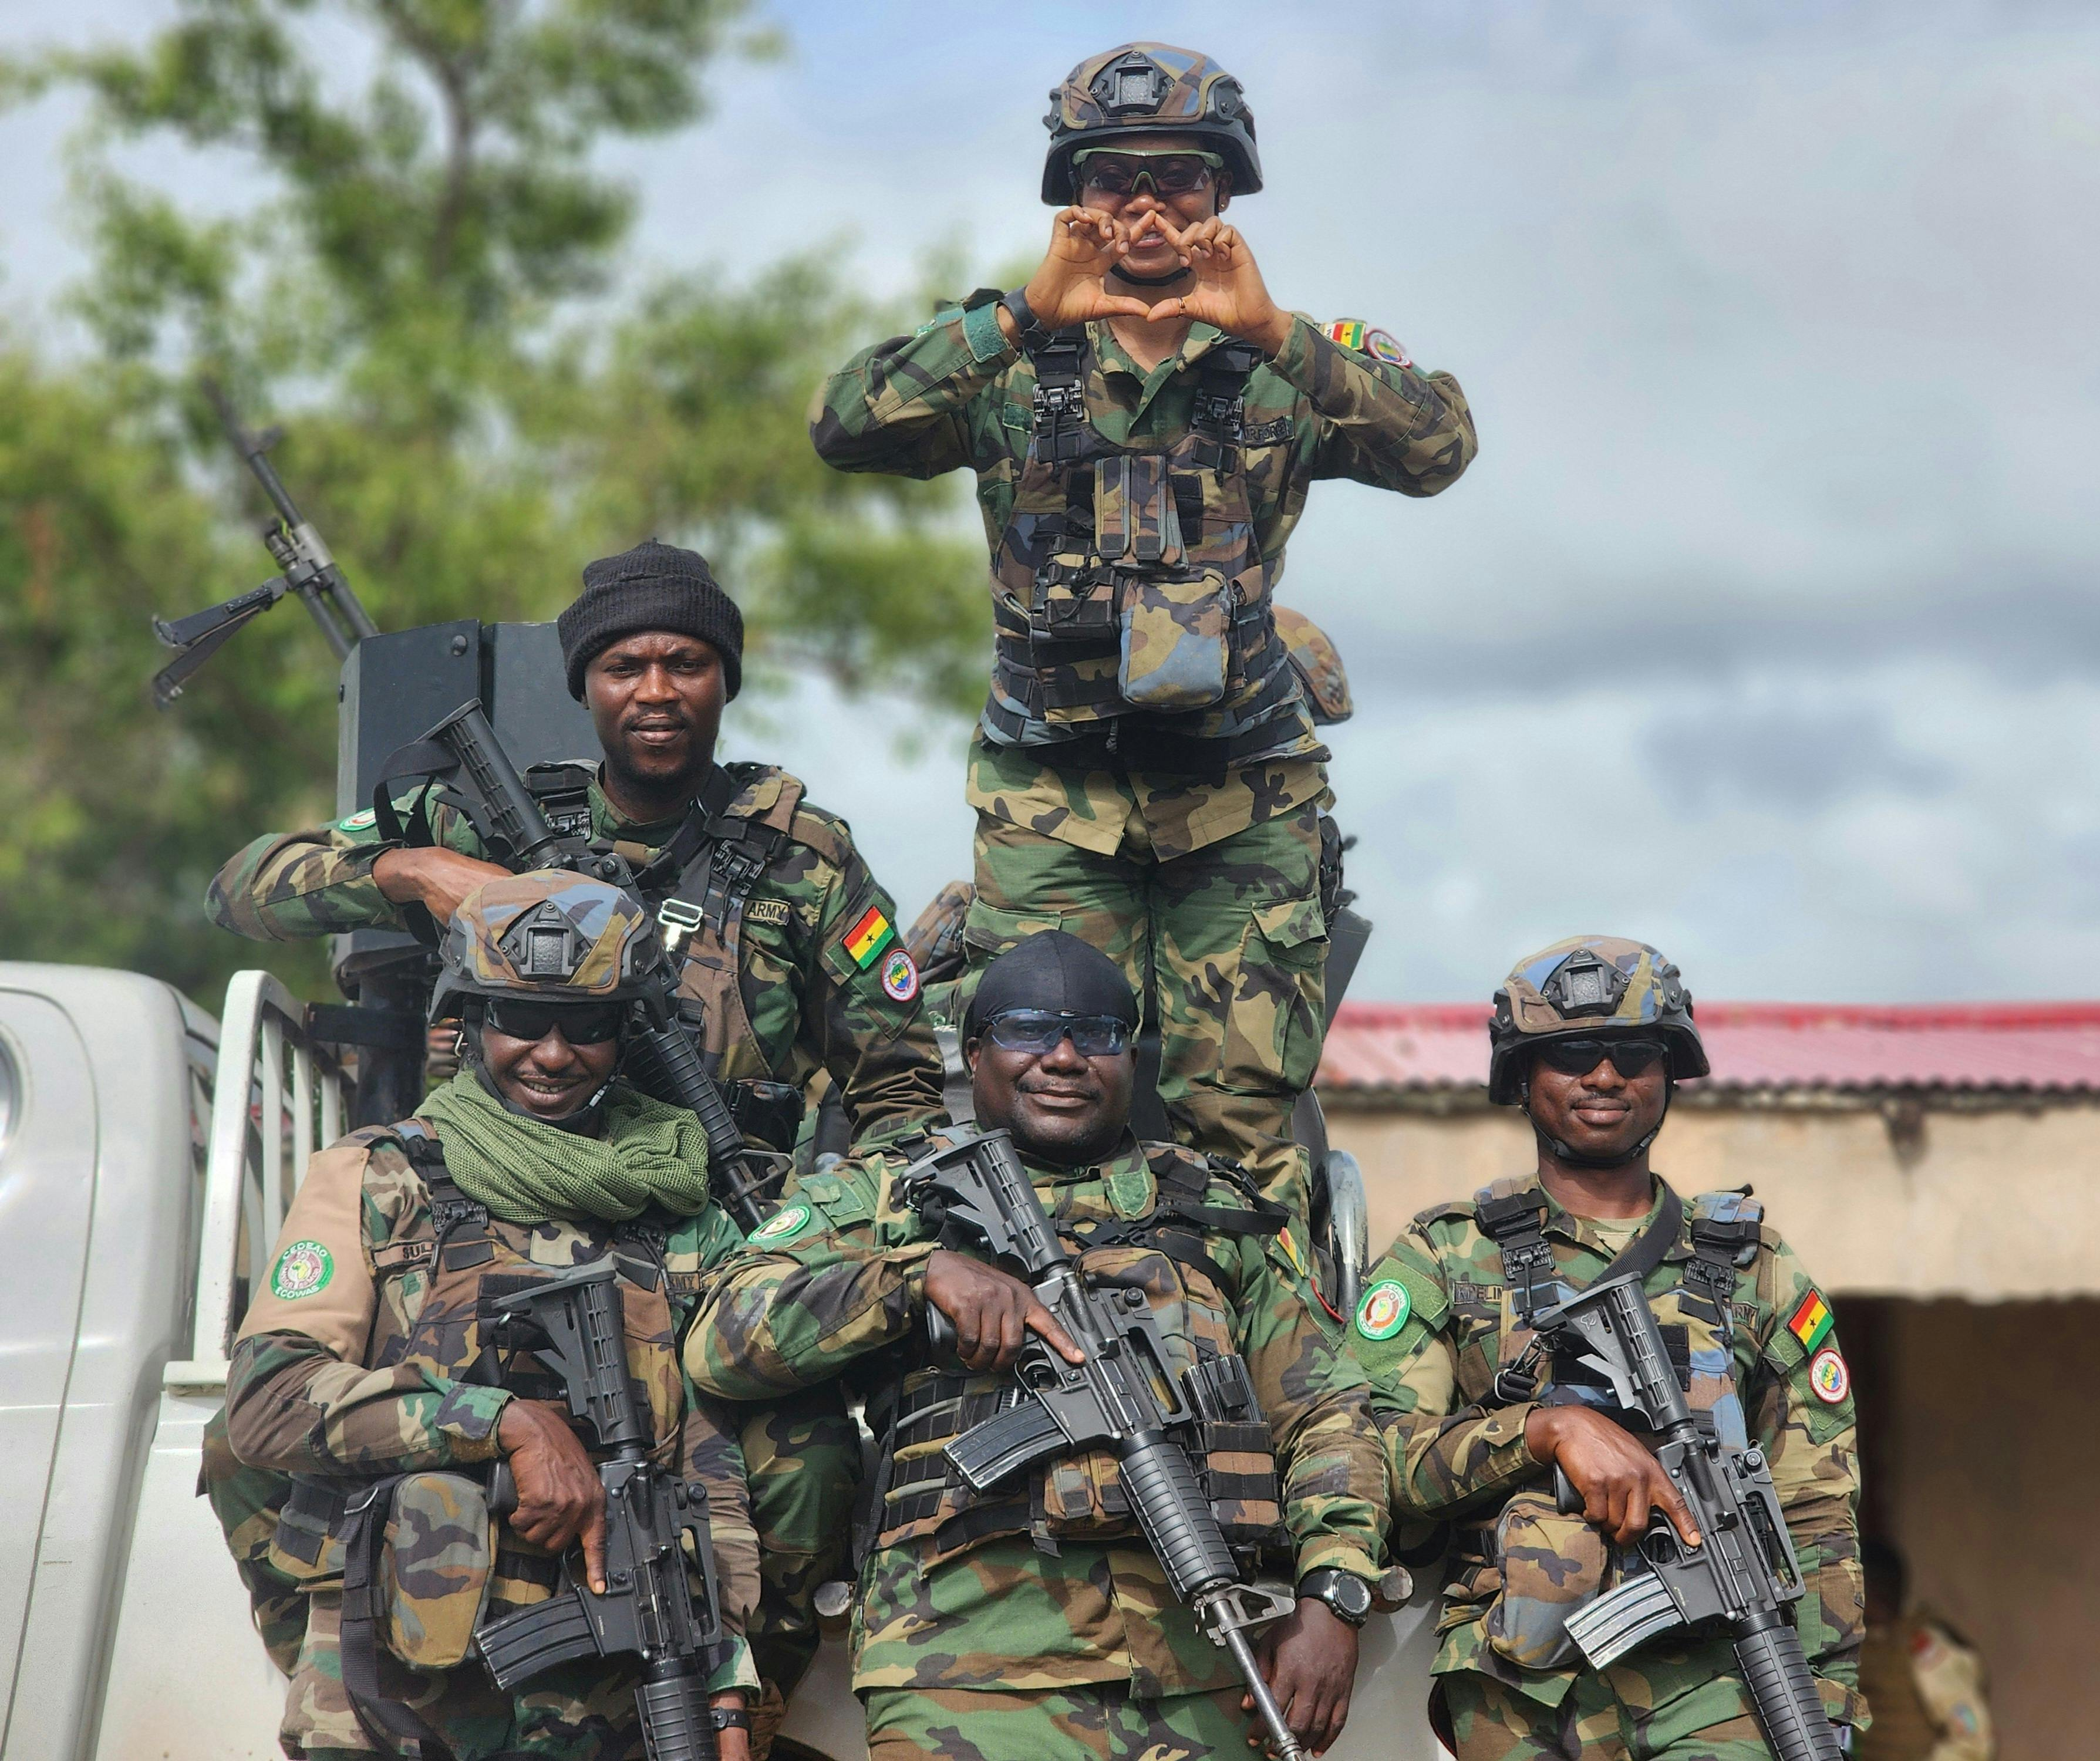capacete: (1029, 33, 1270, 210), (425, 870, 676, 1031), (1482, 926, 1714, 1099)
